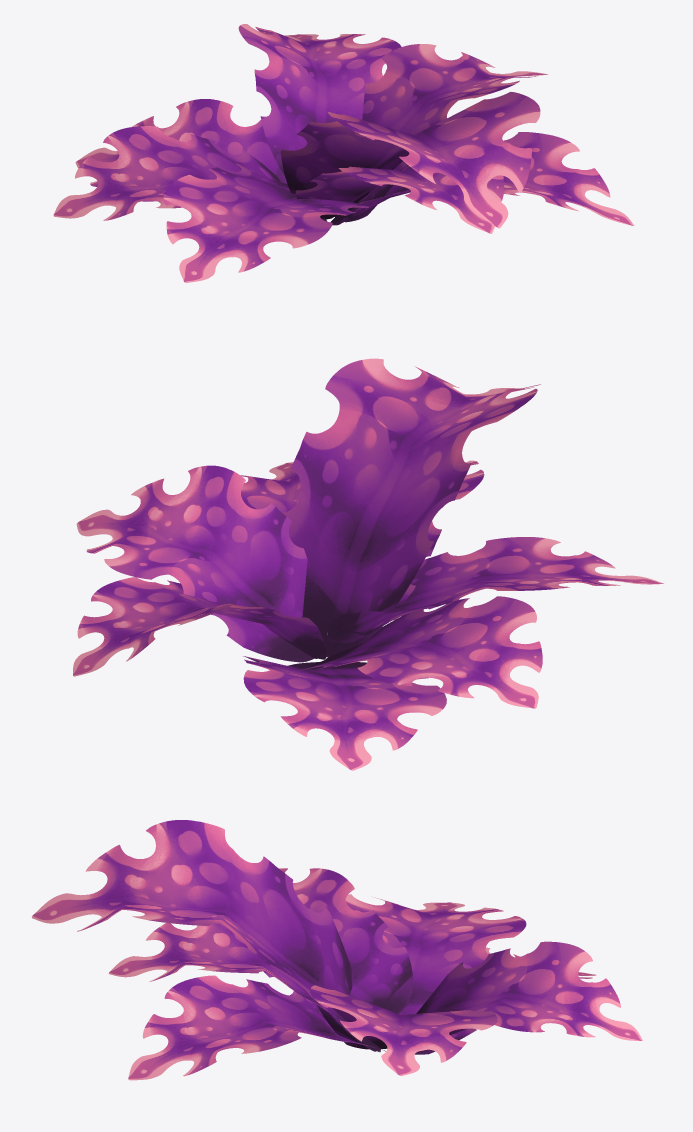
Rendered from Flora_Toad.fbx.
3 renders of one model, top to bottom at view 1: azimuth 30°, elevation 25°; view 2: azimuth 150°, elevation 25°; view 3: azimuth 270°, elevation 25°, orthographic. The views are drawn at different scales.
Visible parts, largest first — view 1: Toad; view 2: Toad; view 3: Toad.
Boxes of the visible parts, x1=… form: Toad: x1=53, y1=24, x2=634, y2=282; Toad: x1=73, y1=358, x2=663, y2=770; Toad: x1=32, y1=820, x2=642, y2=1080.
Bounding box in the file's own units: 167 × 63.09 × 194.
